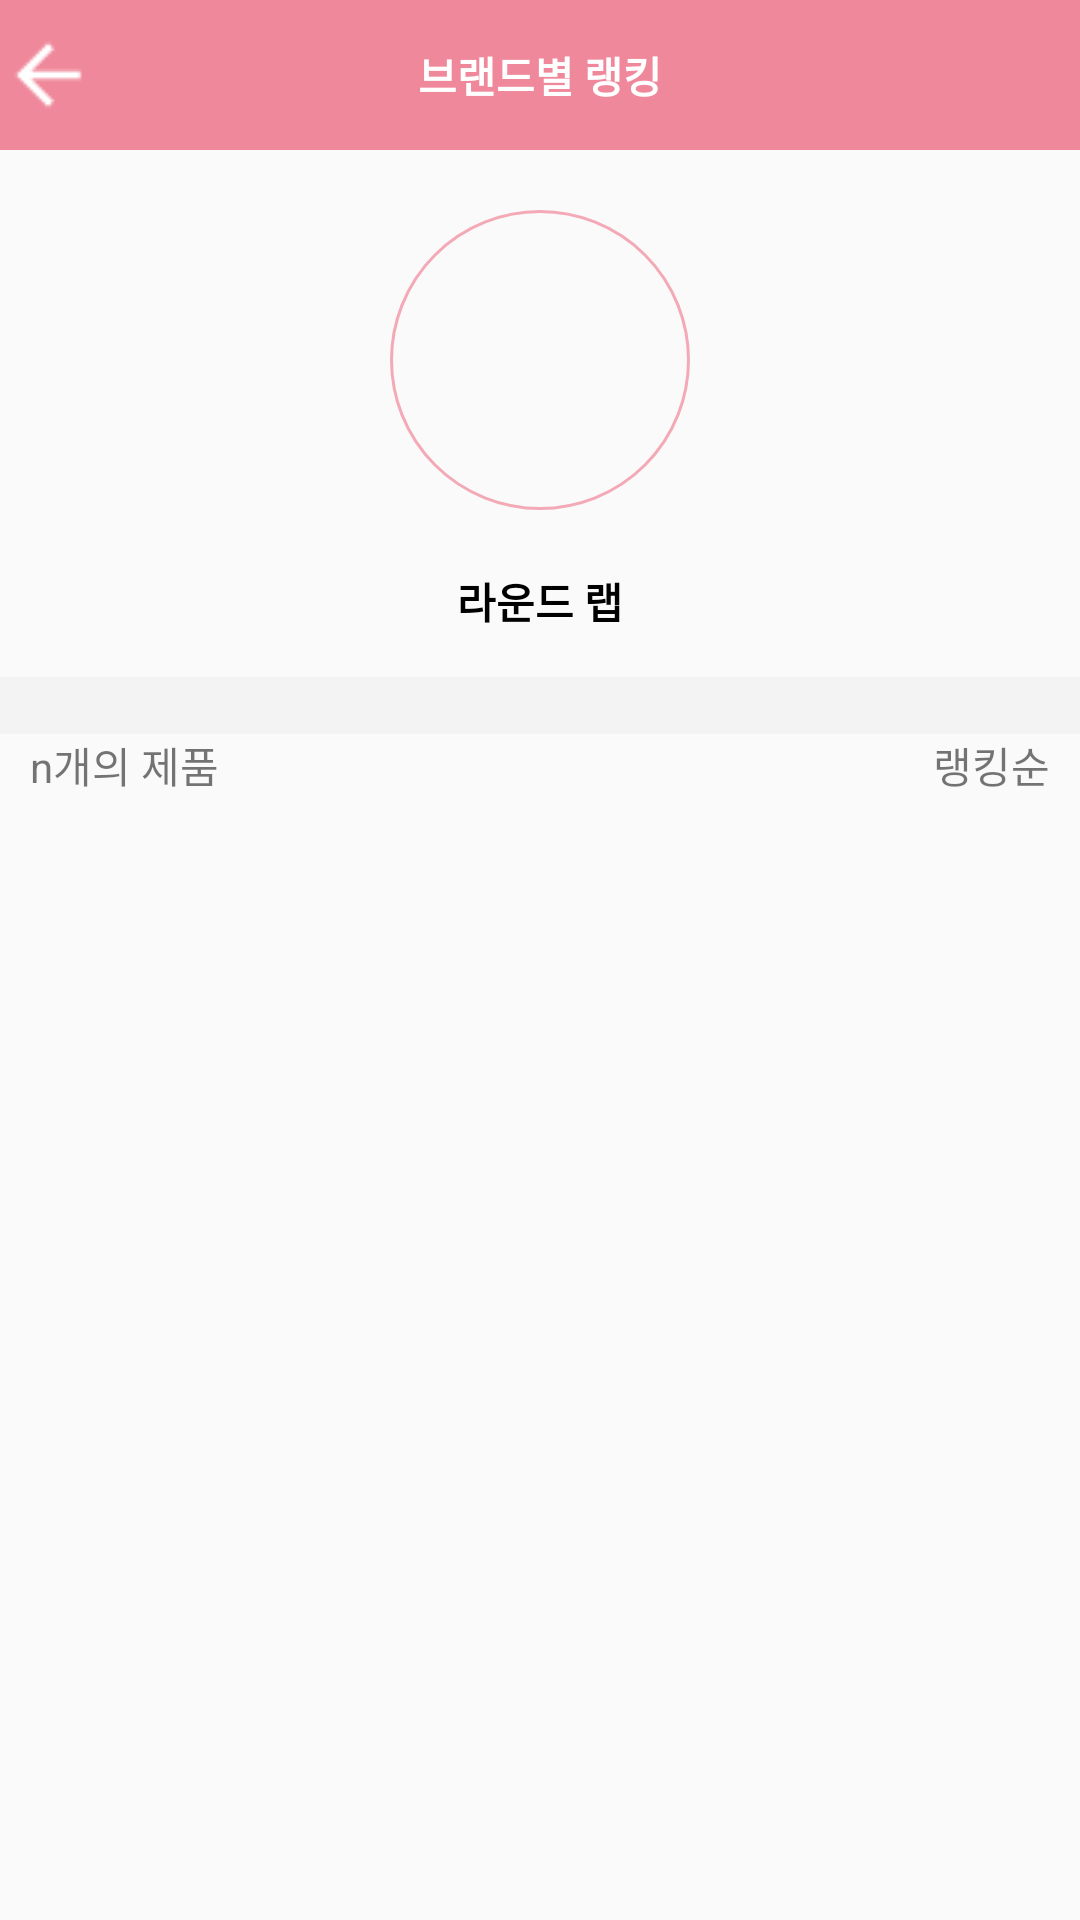

Icon click points for this 1080px x 1920px phone screenshot, format (x,y):
arrow back: (49,75)
